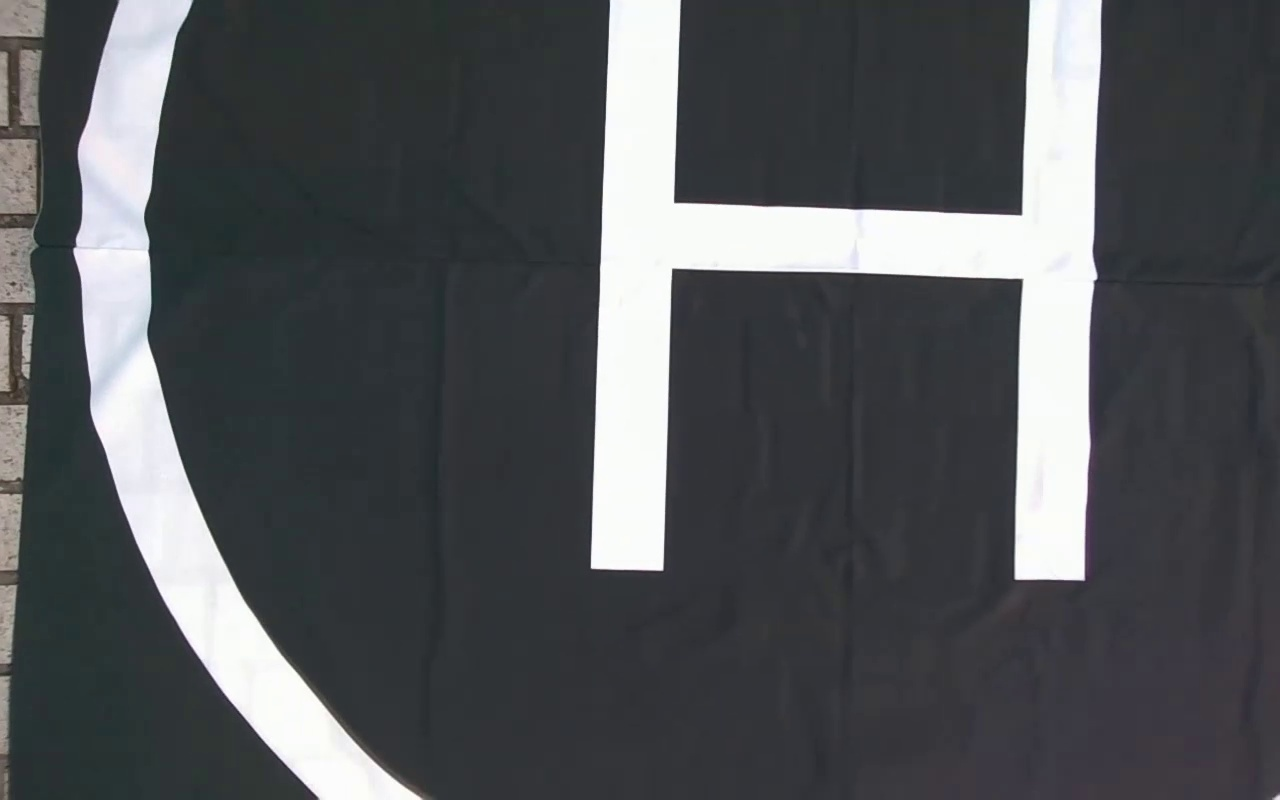H: (586, 1, 1105, 584)
